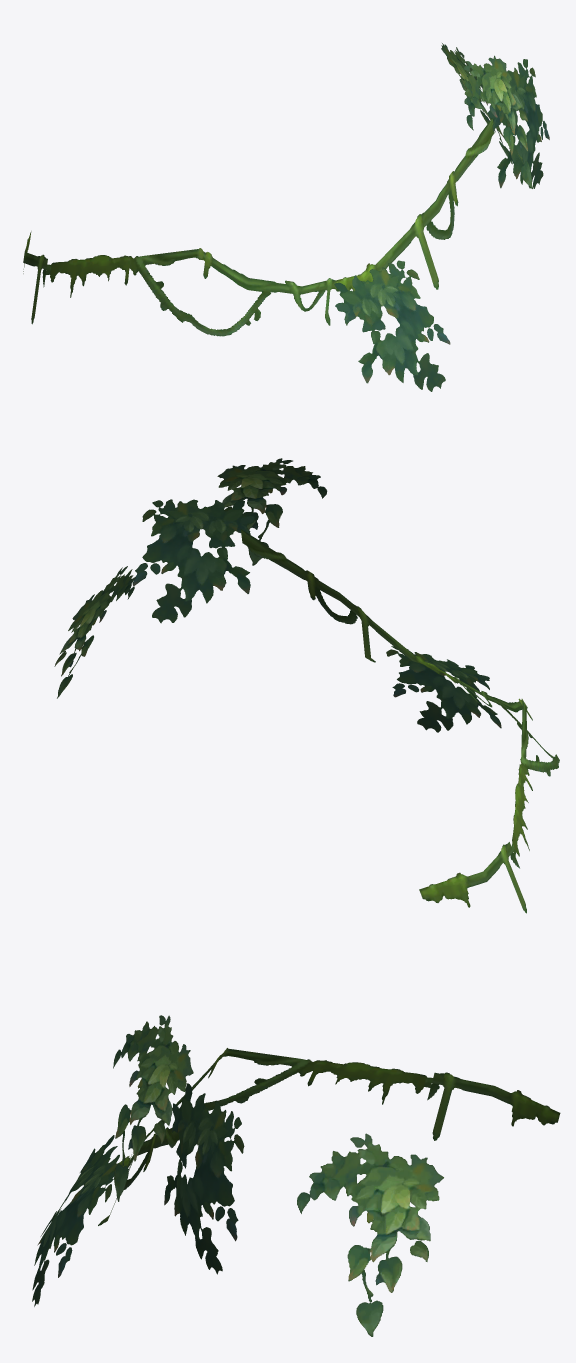
The picture shows the model from 3 angles, top to bottom: view 1: azimuth 30°, elevation 25°; view 2: azimuth 150°, elevation 25°; view 3: azimuth 270°, elevation 25°; orthographic projection. The views are drawn at different scales.
Parts seen in each view (by area): view 1: mesh_24; view 2: mesh_24; view 3: mesh_24.
Part boxes in pixels (box(x1,y1,x2,y2)): mesh_24: box(23, 43, 549, 391); mesh_24: box(54, 458, 559, 913); mesh_24: box(32, 1015, 560, 1336).
Size of the model in its own units: 1.67 by 1 by 1.35.
